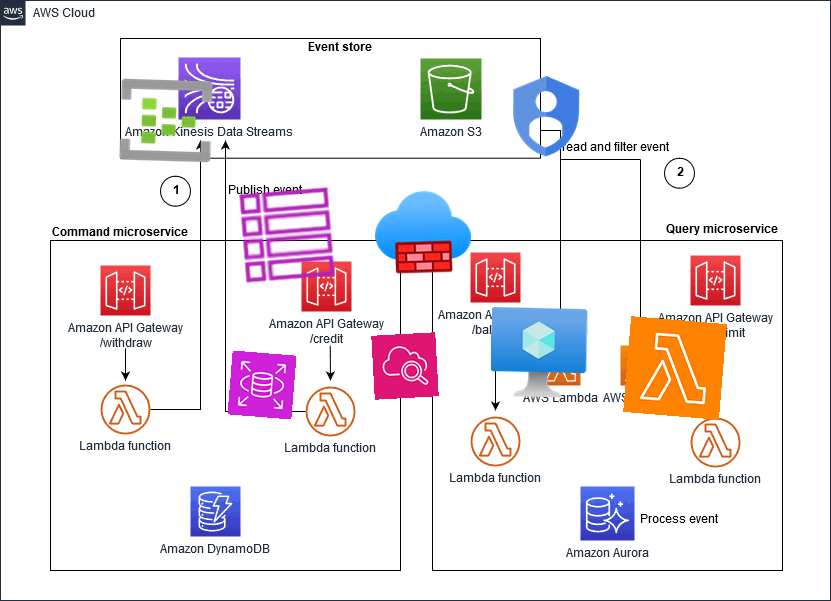aws_amazon_cloudwatch: (371, 332, 439, 400)
aws_amazon_rds: (227, 350, 297, 420)
aws_dynamodb_table: (235, 183, 339, 287)
aws_lambda: (623, 316, 727, 420)
azure_event_hubs: (116, 70, 216, 170)
azure_firewalls: (373, 182, 473, 282)
azure_virtual_machine: (489, 305, 589, 405)
gcp_identity_and_access_management: (497, 67, 595, 165)
